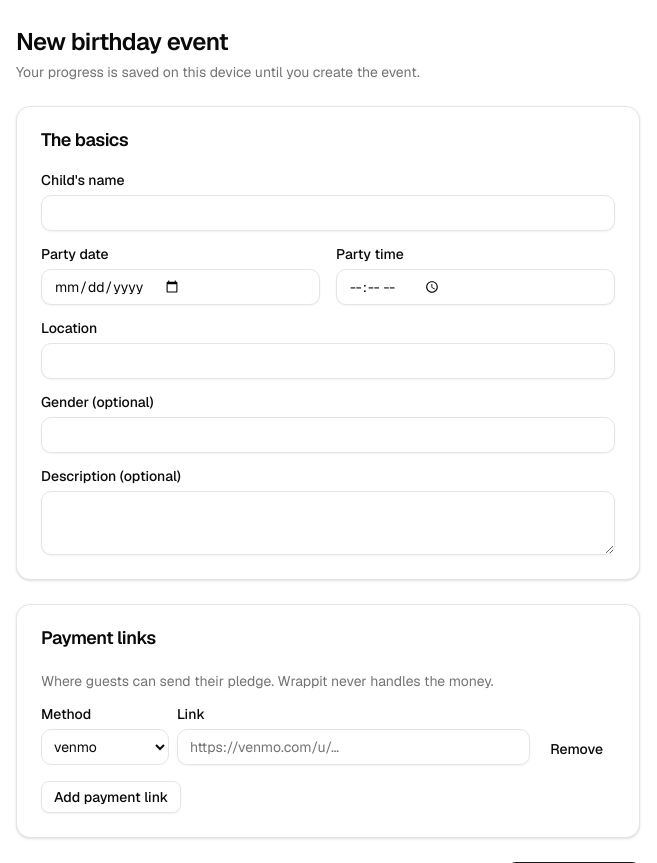
Test: NewEventPage › shows server validation errors and does not navigate
In the field labelled "Child's name": (328, 213) top-left (41, 195), bottom-right (615, 231), type "Maya"
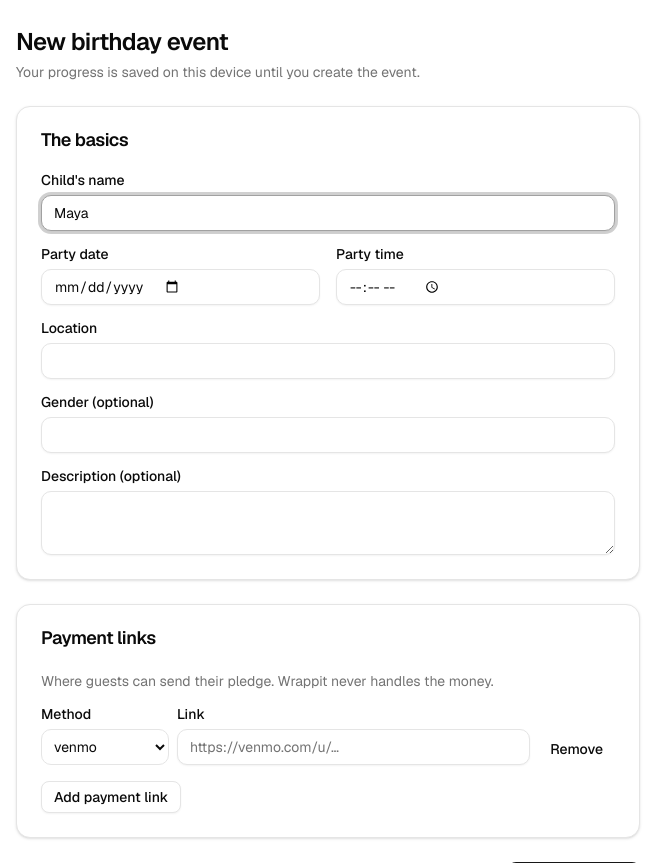
In the date field labelled "Party date": (180, 287) top-left (41, 269), bottom-right (320, 305), type "2026-08-15"
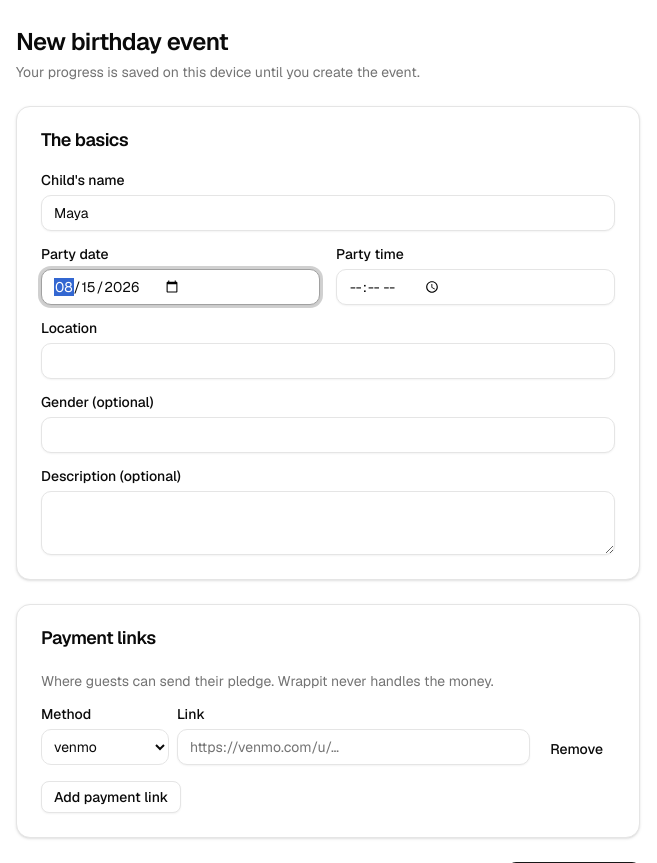
In the field labelled "Location": (328, 361) top-left (41, 343), bottom-right (615, 379), type "Sunny Park"
(page scrolled)
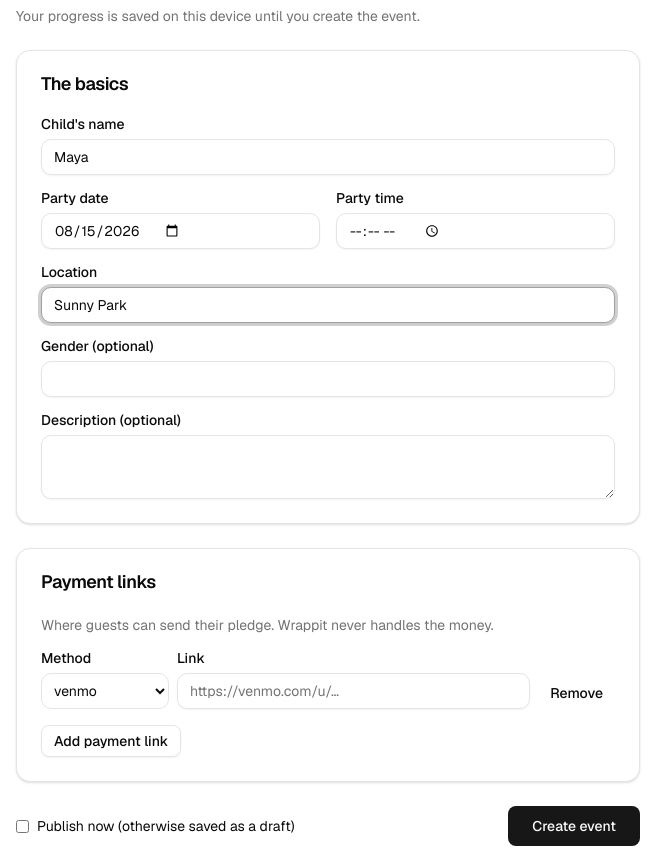
Click the button "Create event": (574, 826) top-left (508, 806), bottom-right (640, 846)
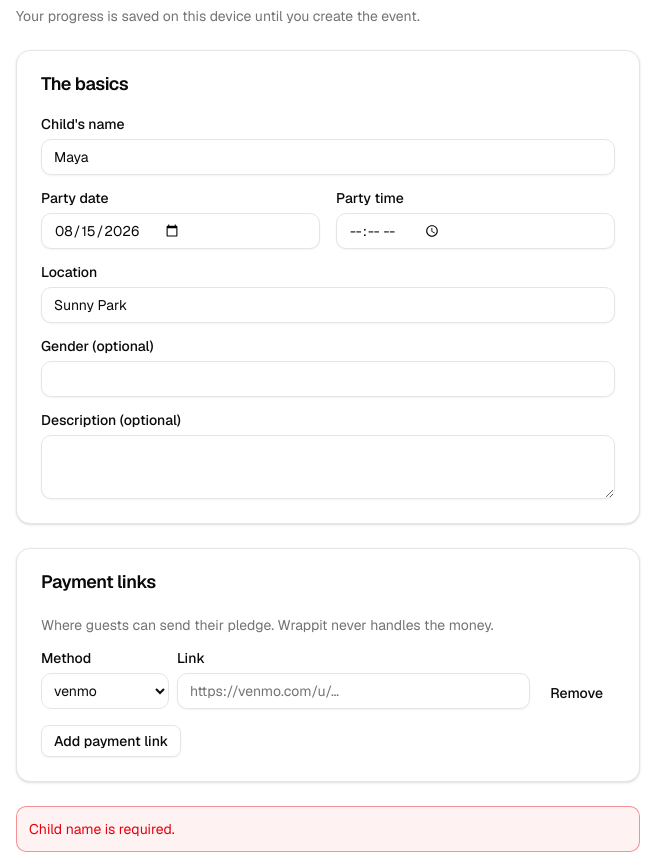
Expected: the list item "Child name is required." is shown, top-left (29, 820), bottom-right (175, 838)
